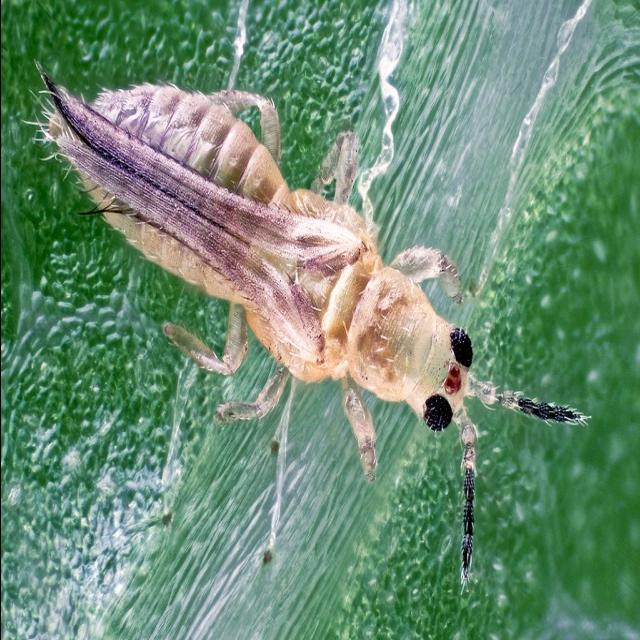thrip: (31, 56, 596, 604)
